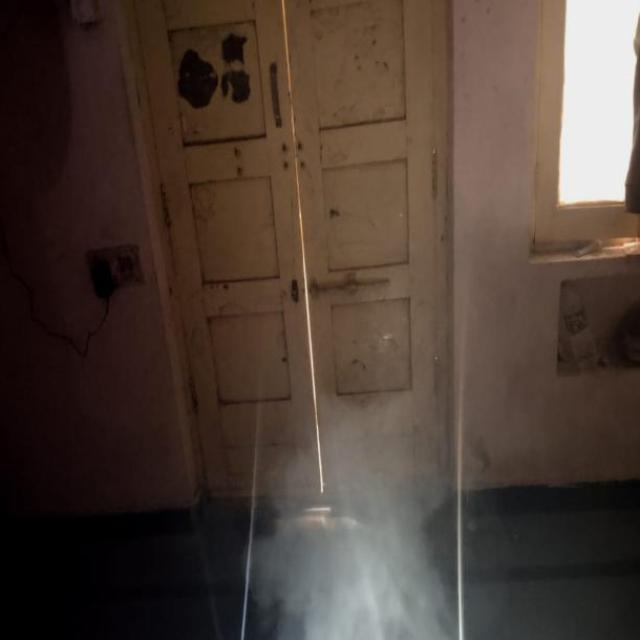fire: (234, 373, 493, 640)
